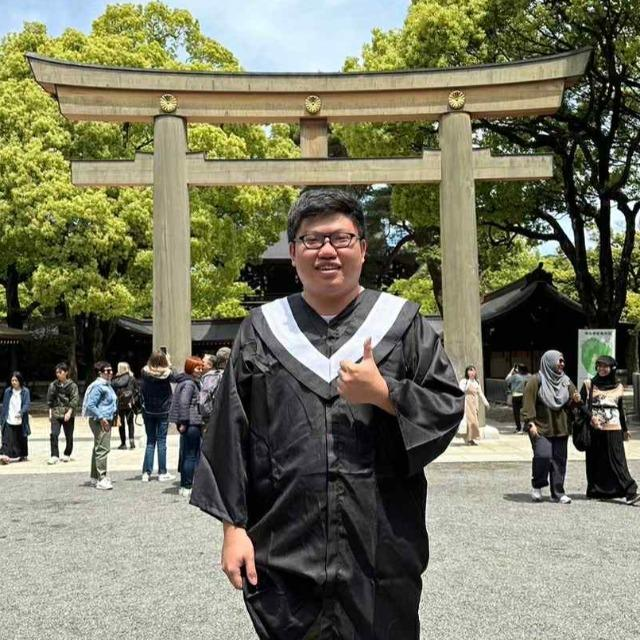NoHelmet: (281, 187, 371, 296)
NoVest: (226, 284, 446, 586)
